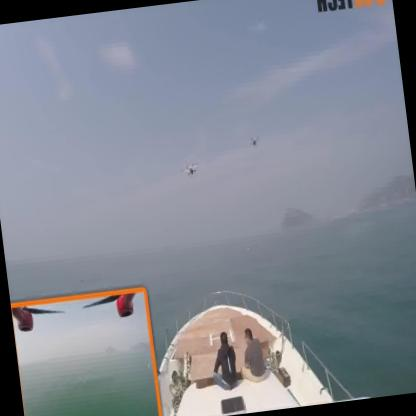drone: (174, 151, 203, 181)
